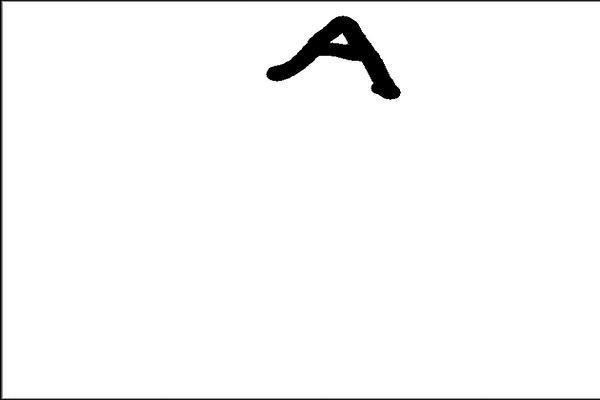A: (263, 12, 404, 109)
